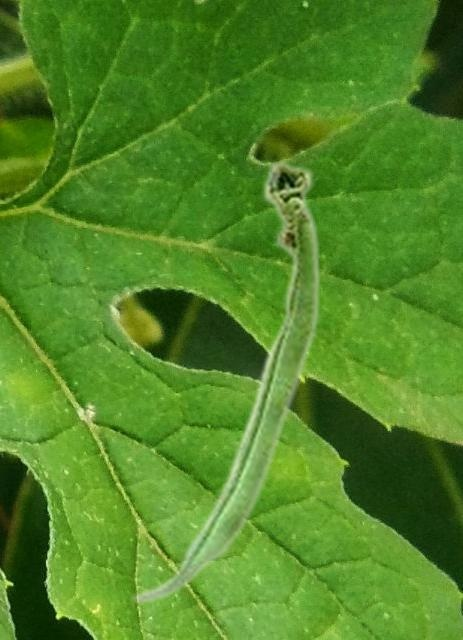french_bean: (130, 158, 320, 604)
